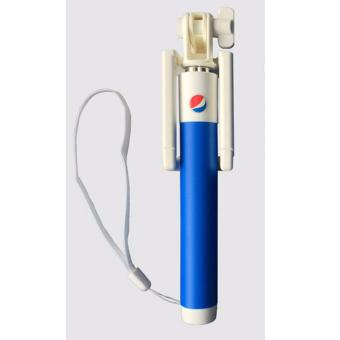pepsi: (188, 93, 207, 111)
